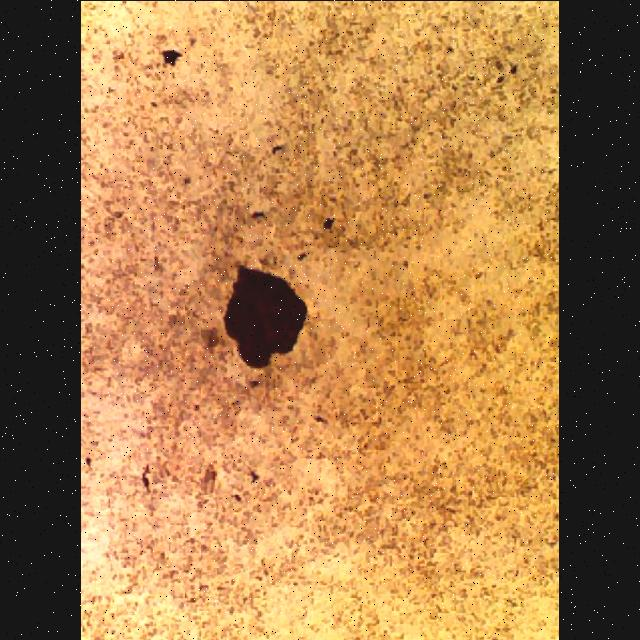Fragment: (222, 252, 310, 376), (158, 43, 184, 71)
